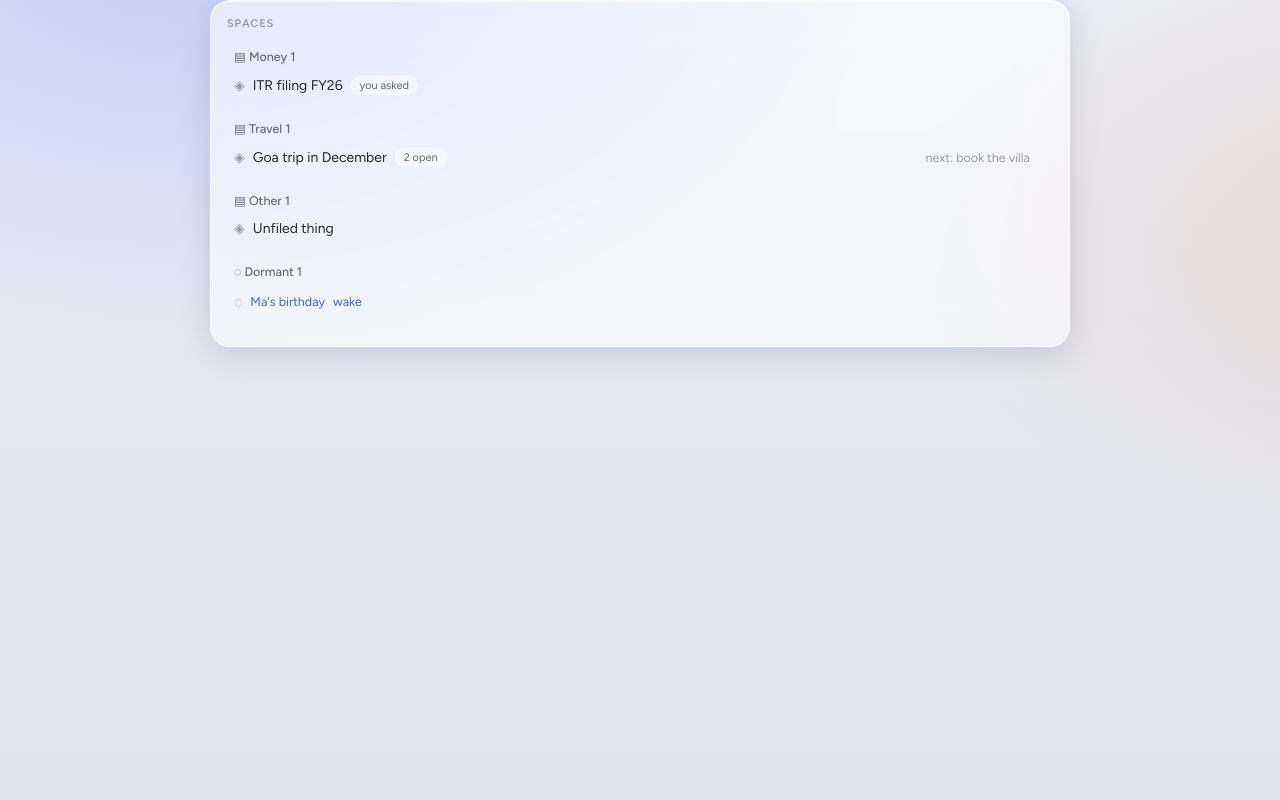
Scenario: Space view › shows goal, summary, latest, the milestone rail, tasks, people and enrichment
This screenshot has width=1280, height=800.
Click the button with aria-label "space Goa trip in December": (320, 158) x1=234 y1=148 x2=1030 y2=167
(page scrolled)
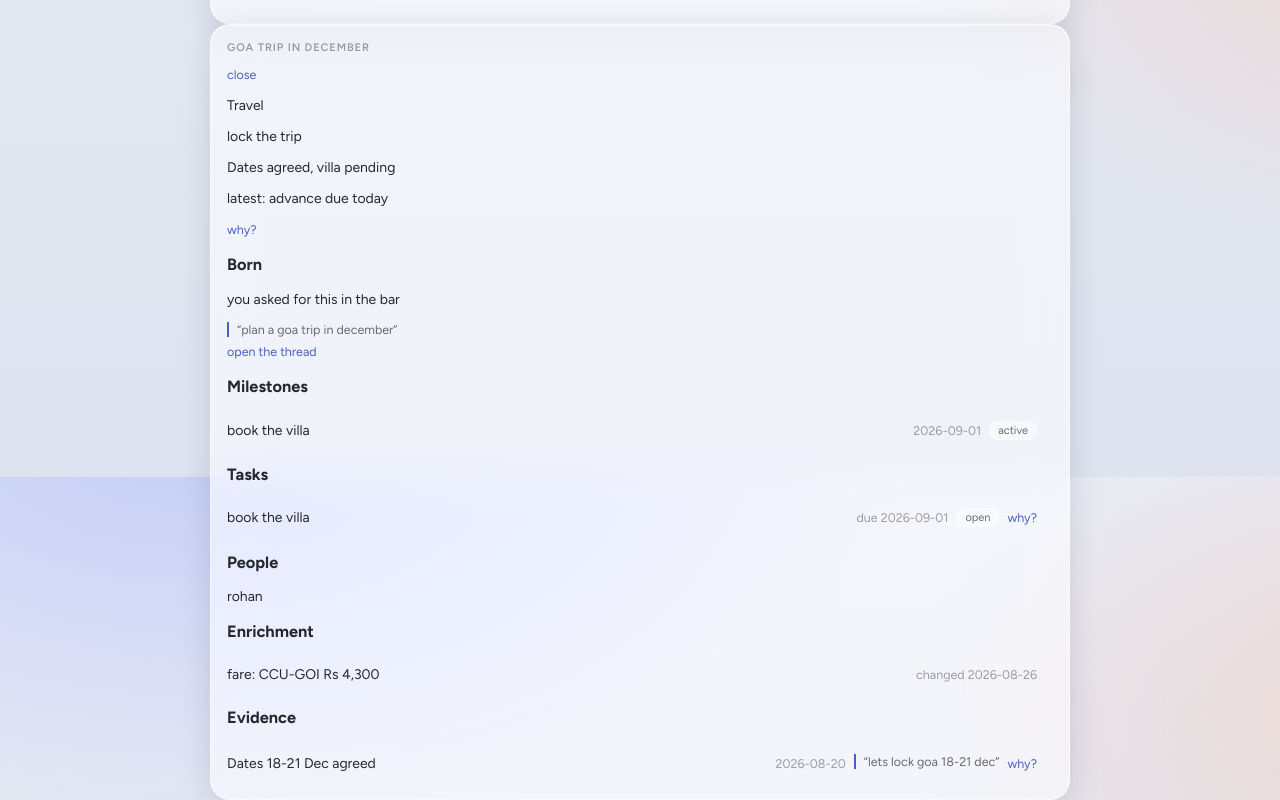
Now the element named "space view Goa trip in December" is shown
Now the text named "goal" reads "lock the trip", box x1=227 y1=128 x2=302 y2=145
Now the text named "summary" reads "Dates agreed, villa pending", box x1=227 y1=159 x2=395 y2=176
